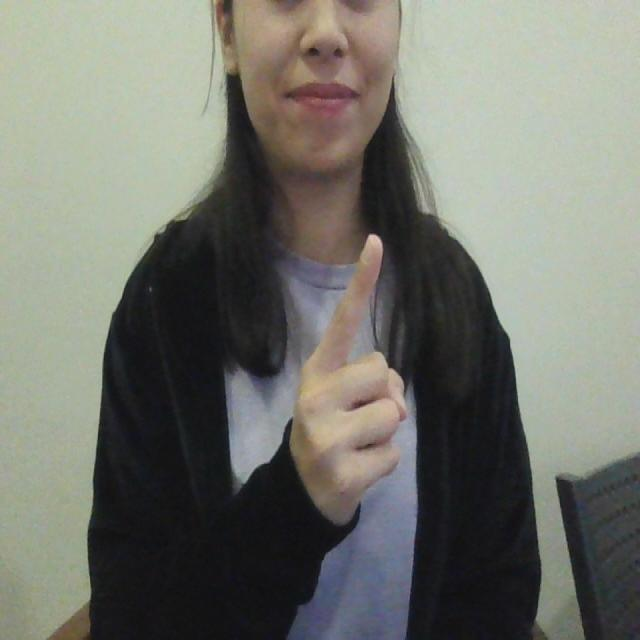Hayir: (285, 219, 455, 572)
